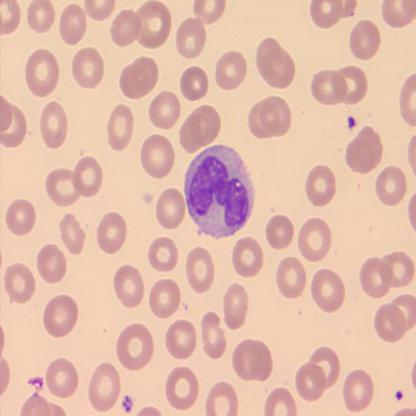Monocyte: (182, 141, 256, 242)
